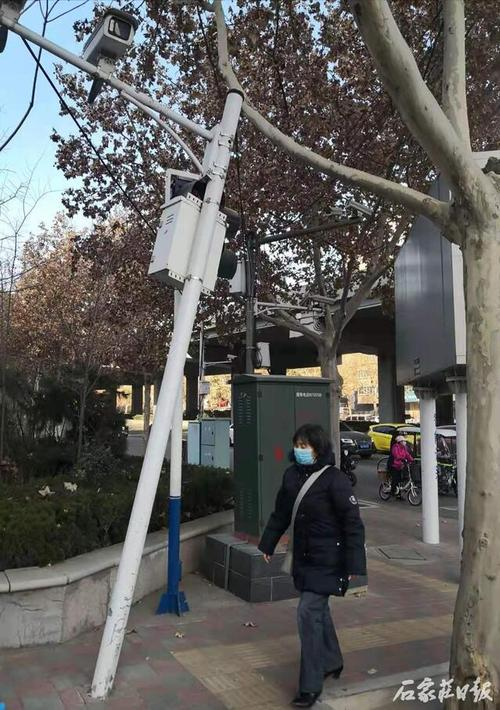bicycle: (378, 458, 429, 505)
camera: (86, 12, 137, 76)
car: (369, 423, 419, 458), (340, 427, 372, 461)
person: (259, 419, 368, 710)
